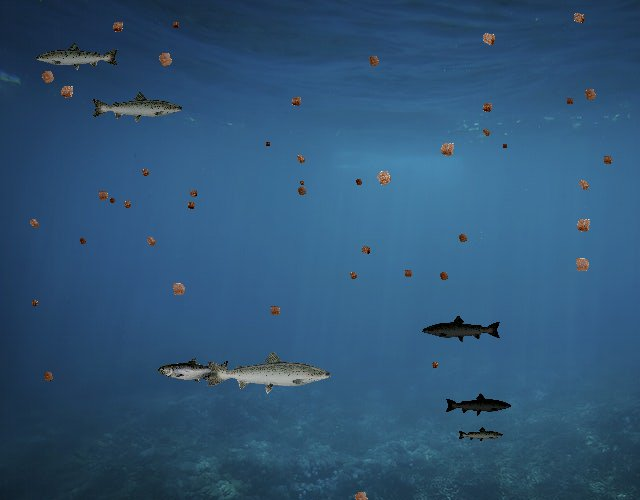Fish: (204, 349, 333, 395), (90, 91, 184, 124), (34, 41, 120, 72), (422, 315, 503, 344), (158, 358, 231, 384), (445, 392, 513, 417), (458, 426, 505, 443)
Pellet: (433, 135, 462, 164), (569, 211, 597, 239), (475, 26, 502, 53), (578, 83, 602, 107), (286, 91, 307, 112), (453, 229, 472, 248), (345, 268, 362, 285), (28, 296, 42, 310)
